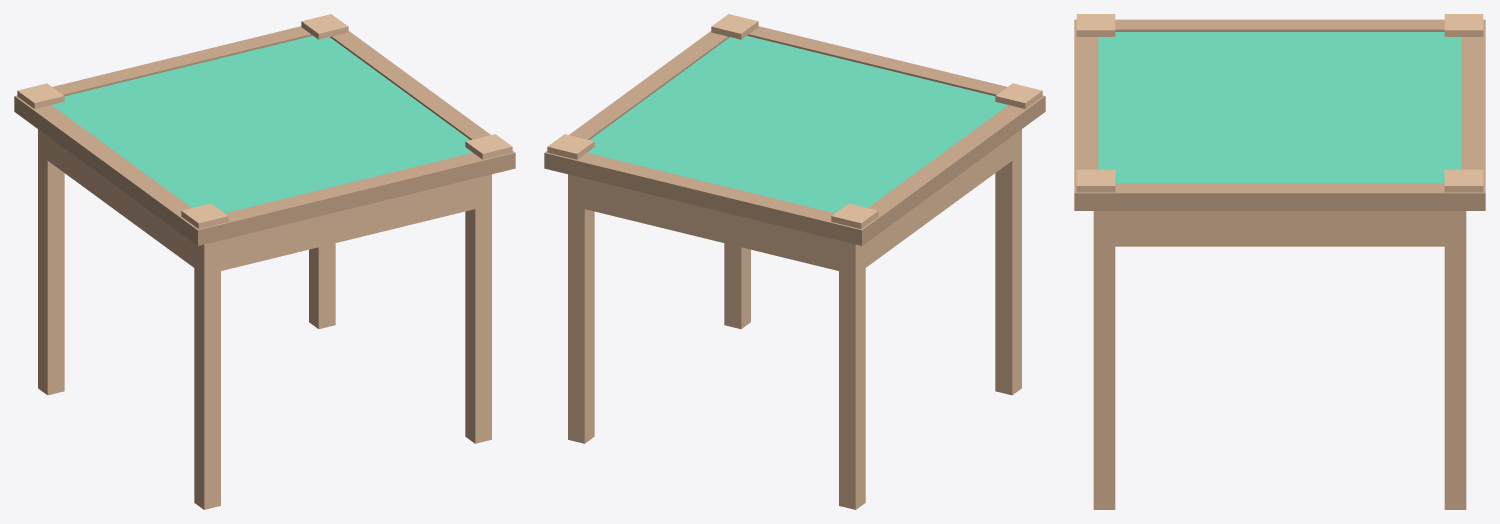
The model's file is cardTable.glb.
3 views of the same model, side by side, from view 1: azimuth 30°, elevation 25°; view 2: azimuth 150°, elevation 25°; view 3: azimuth 270°, elevation 25° (orthographic). The views are drawn at different scales.
Parts seen in each view (by area): view 1: cardTable; view 2: cardTable; view 3: cardTable.
Boxes of the visible parts, left/top/right/bottom form: cardTable: left=14, top=14, right=515, bottom=509; cardTable: left=544, top=14, right=1045, bottom=509; cardTable: left=1074, top=14, right=1485, bottom=509.
Size of the model in its own units: 0.425 by 0.3775 by 0.425.
